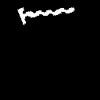half_double_crochet: (18, 8, 73, 23)
